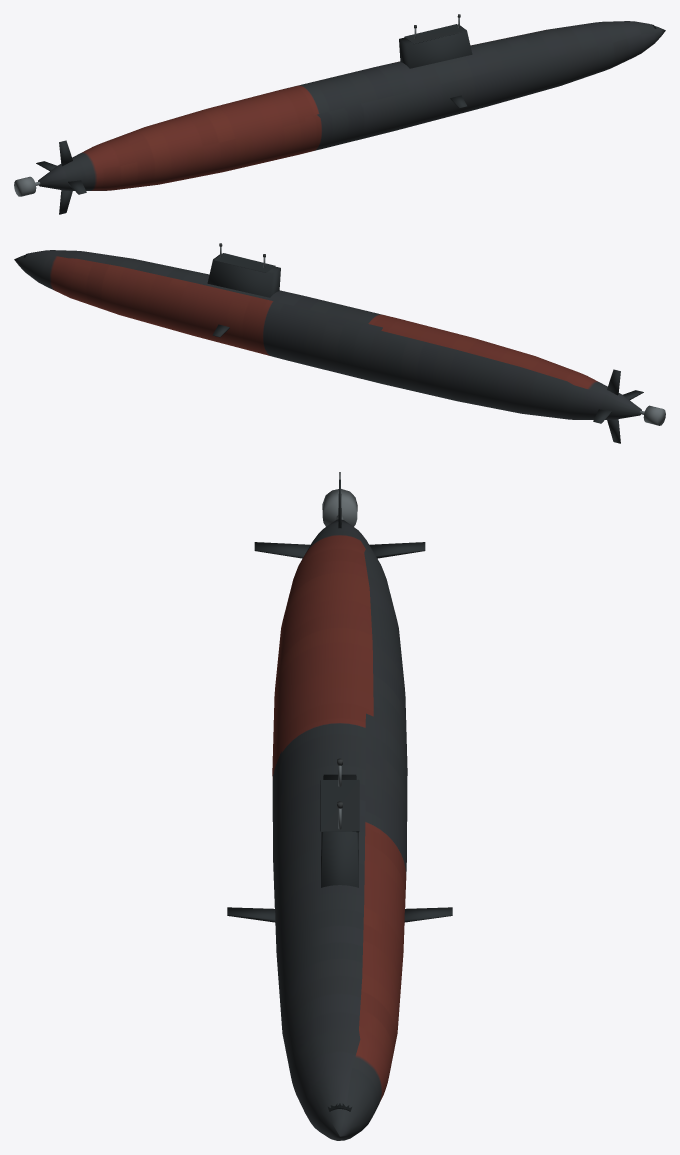
File: RU_SSN_YasenM_LOD2.fbx
3 views of the same model, one above another, from view 1: azimuth 30°, elevation 25°; view 2: azimuth 150°, elevation 25°; view 3: azimuth 270°, elevation 25° (orthographic). The views are drawn at different scales.
Parts seen in each view (by area): view 1: RU_SSN_YasenM_LOD2; view 2: RU_SSN_YasenM_LOD2; view 3: RU_SSN_YasenM_LOD2.
Boxes of the visible parts, x1,y1,x2,y2 form: RU_SSN_YasenM_LOD2: (14, 14, 665, 214); RU_SSN_YasenM_LOD2: (14, 243, 665, 443); RU_SSN_YasenM_LOD2: (227, 472, 452, 1140).
Size of the model in its own units: 144 by 21.65 by 21.71.
6 materials, 1 textured.
